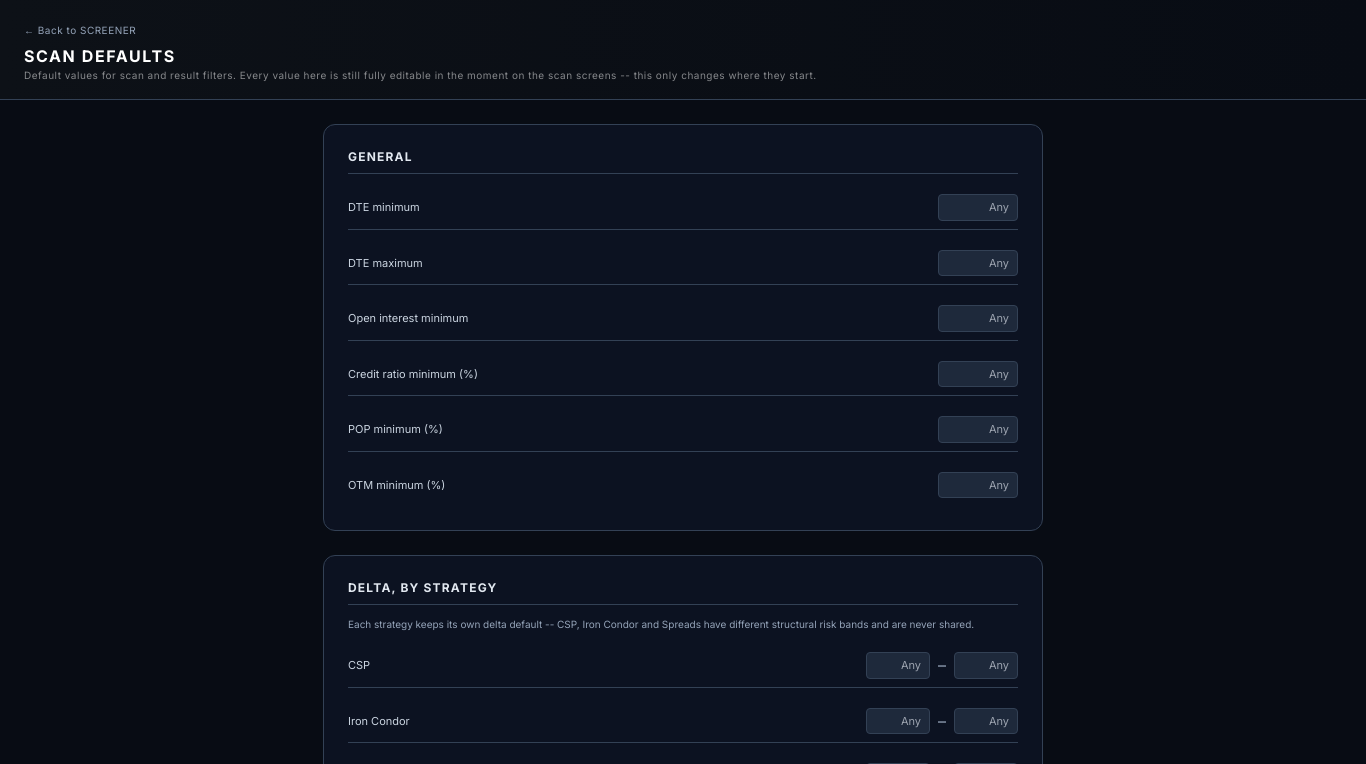
ScanDefaultsPage › editing a global field saves it and shows a brief confirmation
The image size is (1366, 764).
Type "100" into the field with test id "pref-oi-min" at (978, 318), box top-left (938, 305), bottom-right (1018, 332)
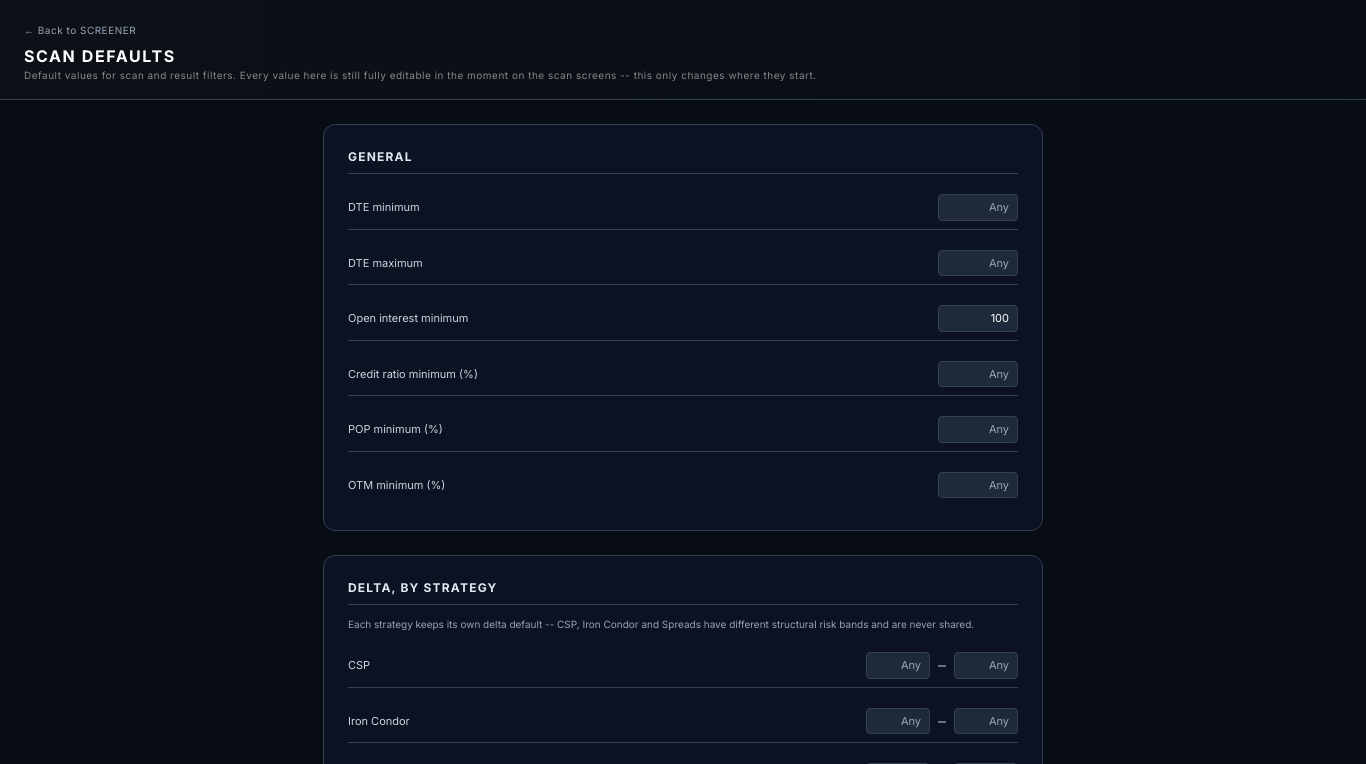
Press Tab
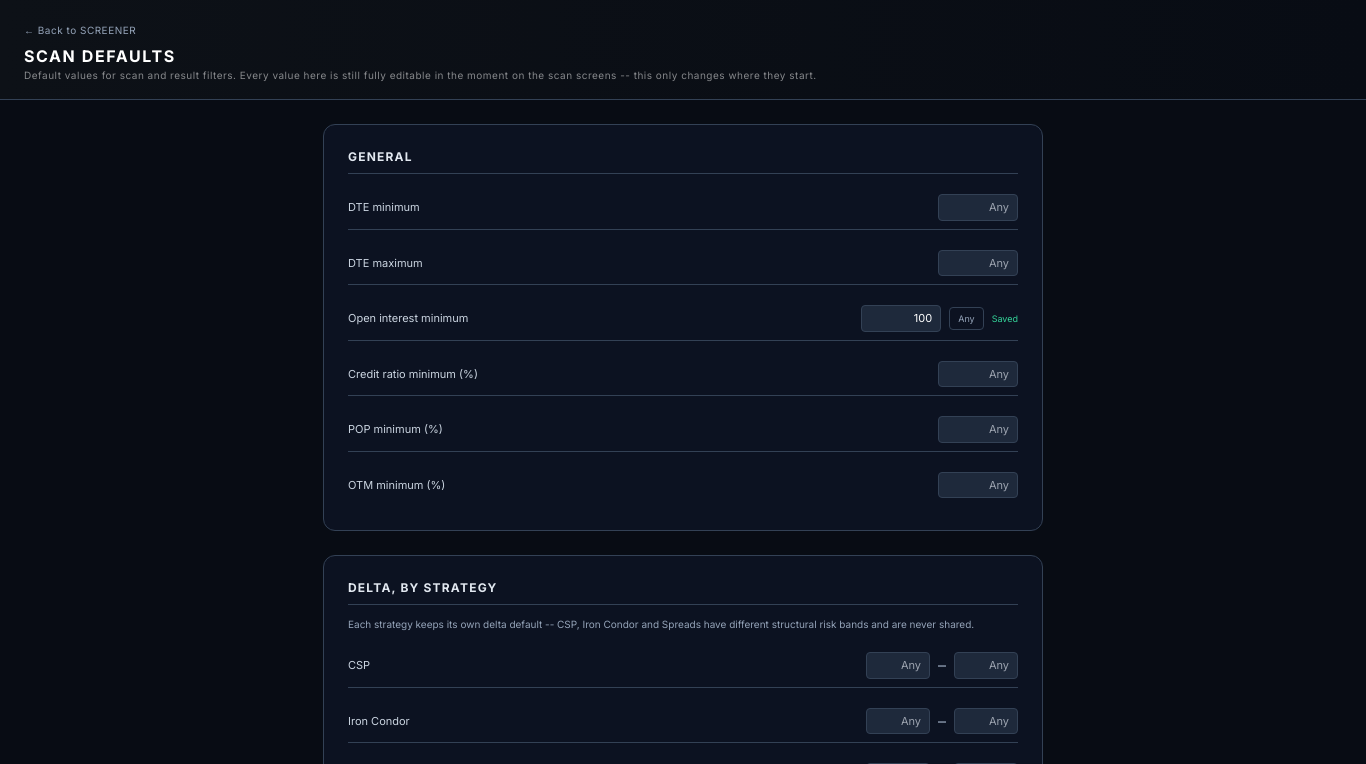
expect the message "Saved" is shown: met, box top-left (992, 312), bottom-right (1018, 325)
